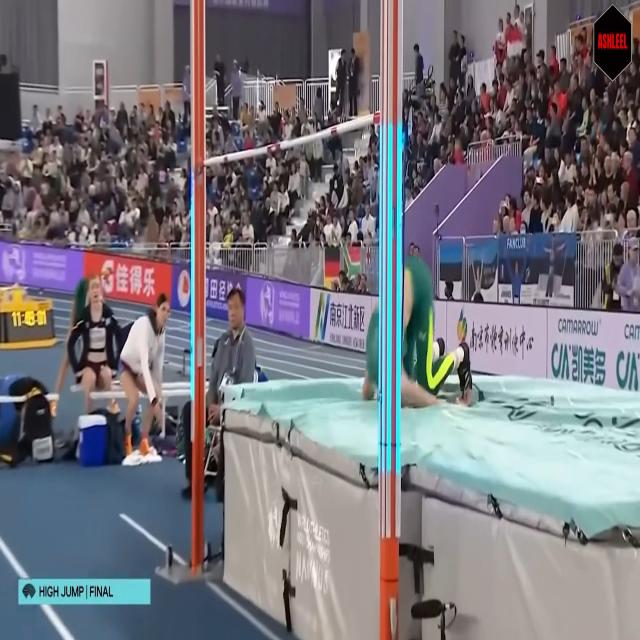land: (362, 256, 473, 406)
